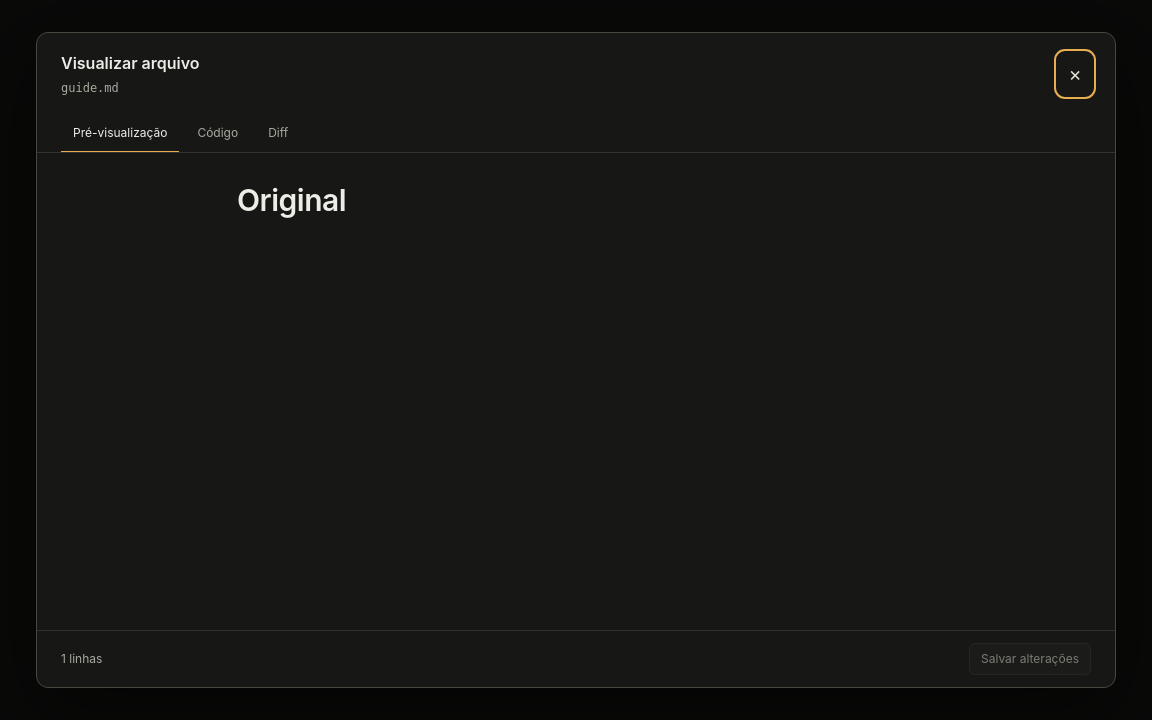
Test: preserves edits across preview/source/diff, saves explicitly, and keeps errors inside the dialog
This screenshot has width=1152, height=720.
Click the tab "Código" at (218, 134), box [185, 115, 250, 152]
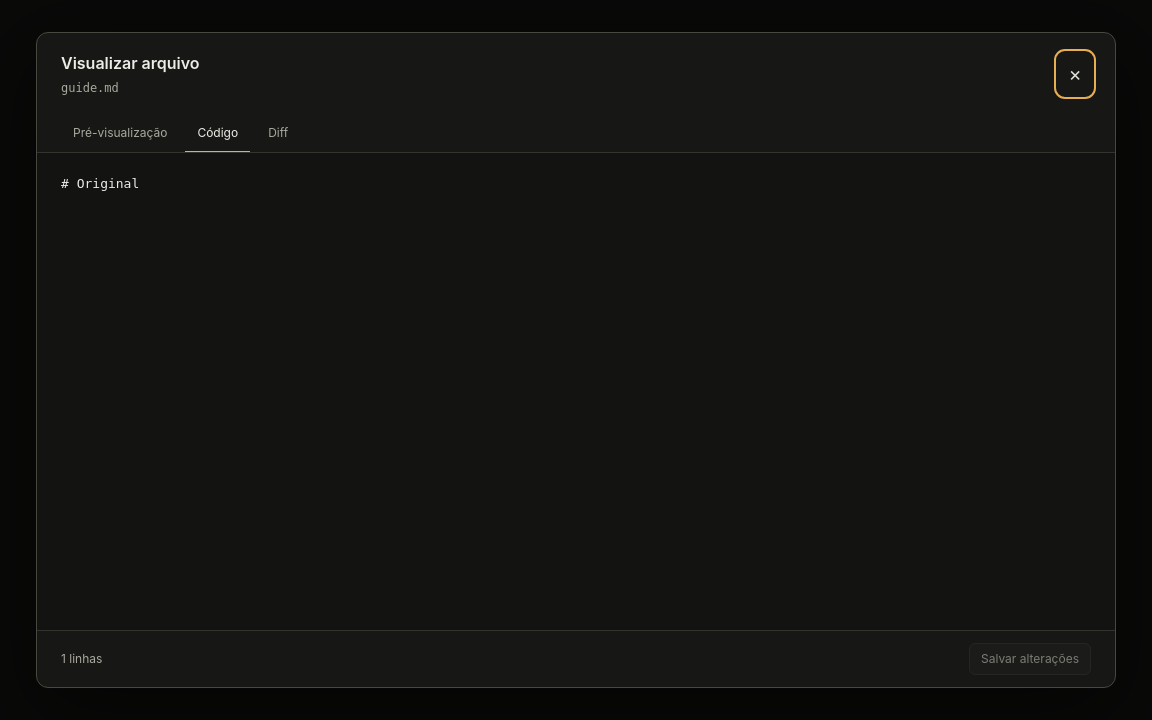
Replace the text in the text box with test id "artifact-editor" with "# Alterado" at (576, 392), box [37, 153, 1115, 630]
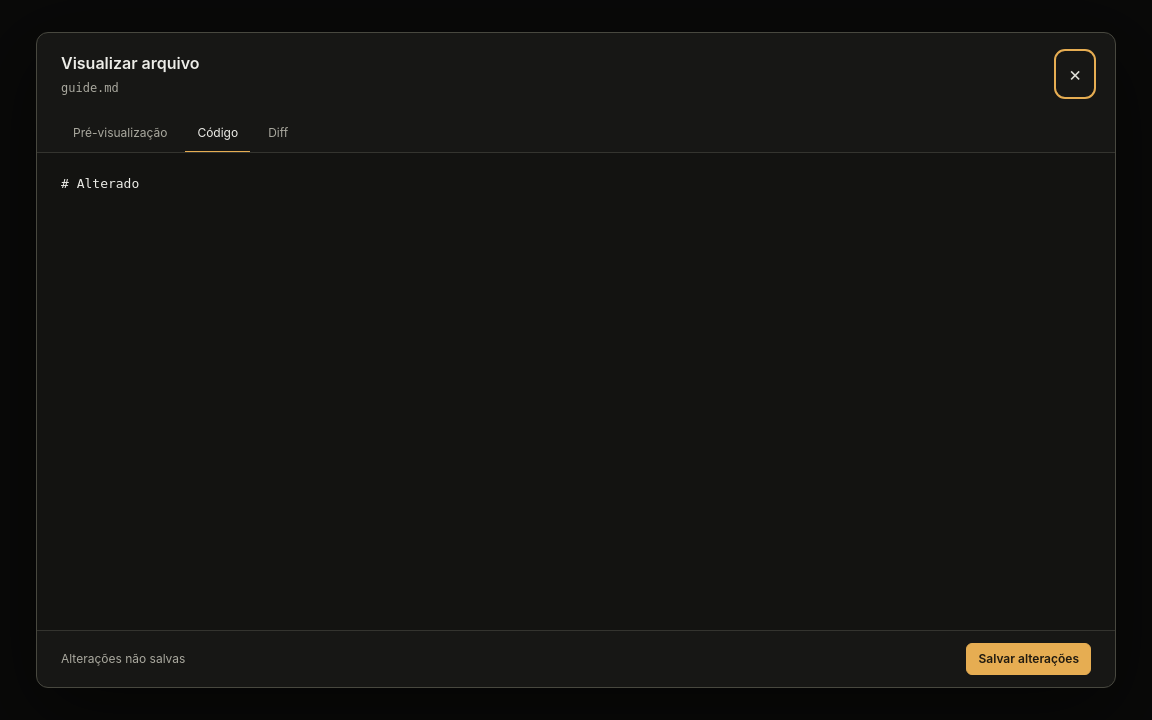
Click the tab "Pré-visualização" at (120, 134), box [61, 115, 179, 152]
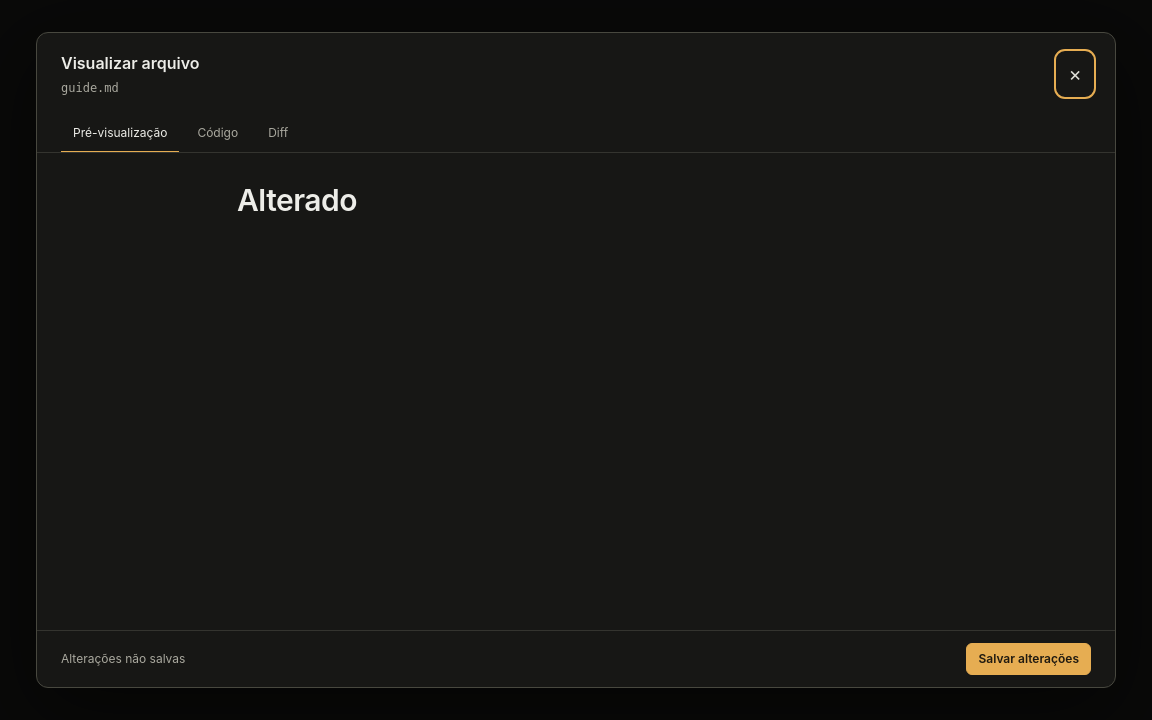
expect the heading "Alterado" is shown: met, box [237, 182, 357, 218]
Click the tab "Diff" at (278, 134), box [256, 115, 300, 152]
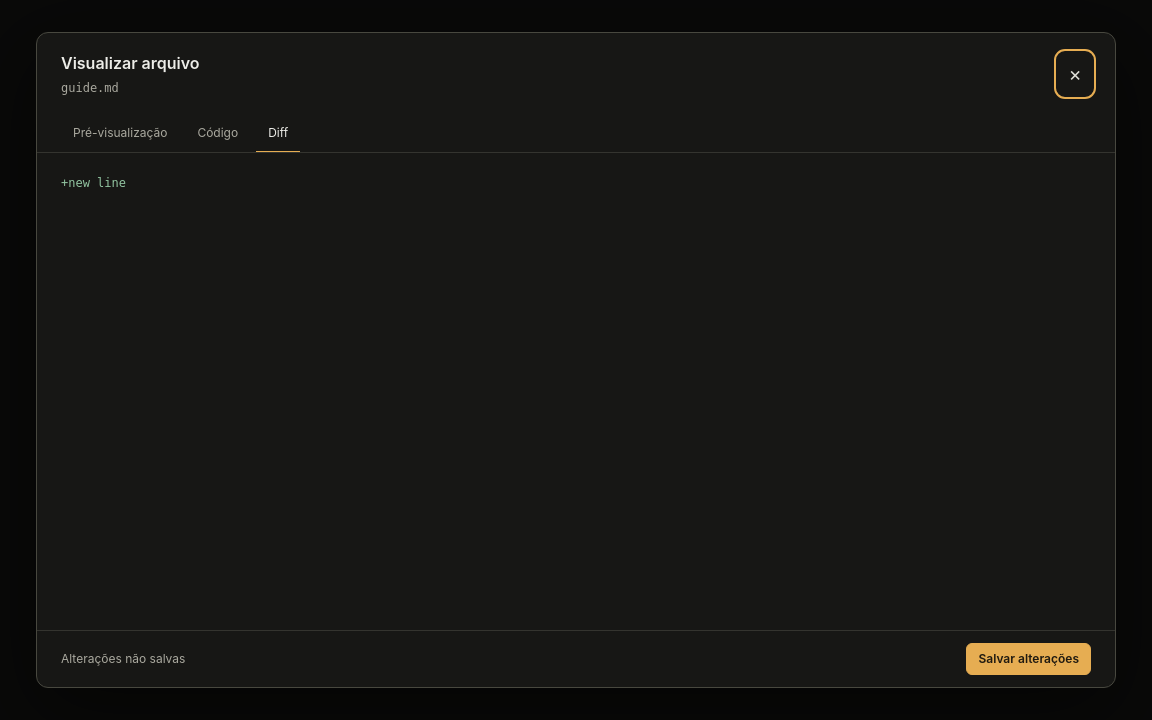
expect the element named "Alterações do arquivo" reads "+new line": met, box [61, 176, 126, 190]
Click the button with test id "save-artifact-btn" at (1029, 659), box [966, 643, 1091, 675]
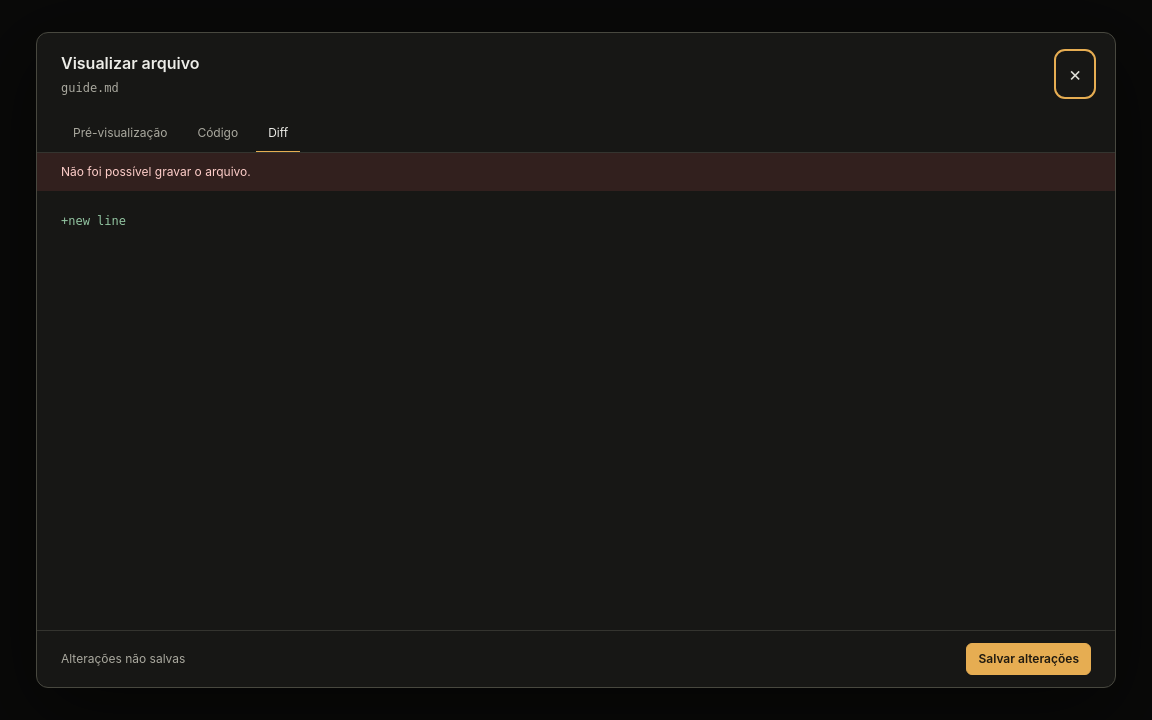
expect the message "Não foi possível gravar o arquivo." is shown: met, box [37, 153, 1115, 191]
Click the button with test id "save-artifact-btn" at (1029, 659), box [966, 643, 1091, 675]
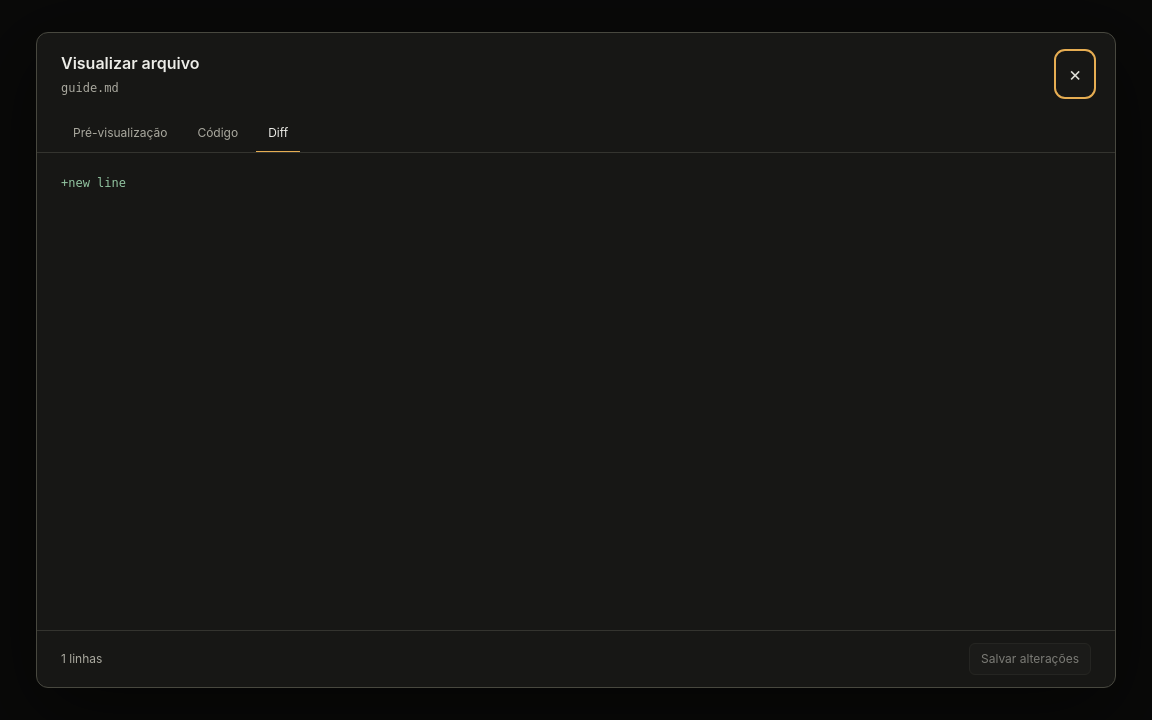
expect the button with test id "save-artifact-btn" is disabled: met, box [969, 643, 1091, 675]
